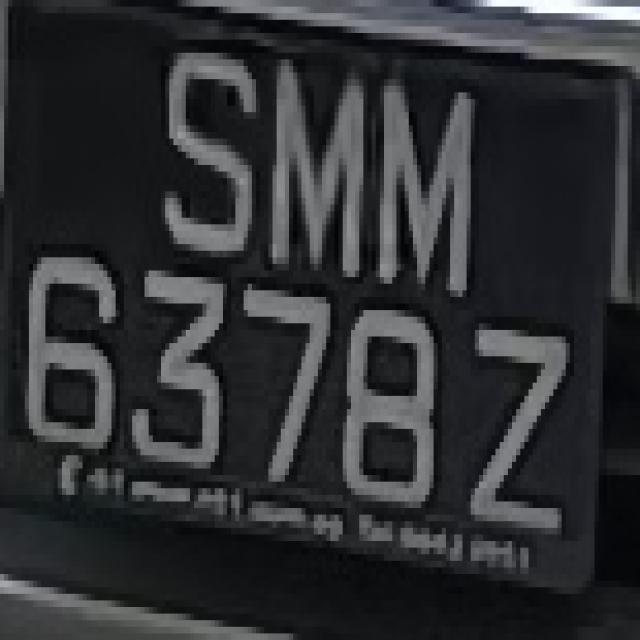3: (120, 238, 239, 482)
6: (21, 224, 128, 462)
7: (227, 264, 335, 508)
8: (334, 284, 446, 534)
M: (260, 53, 372, 310), (363, 79, 483, 317)
S: (157, 13, 264, 277)
Z: (467, 297, 574, 561)
